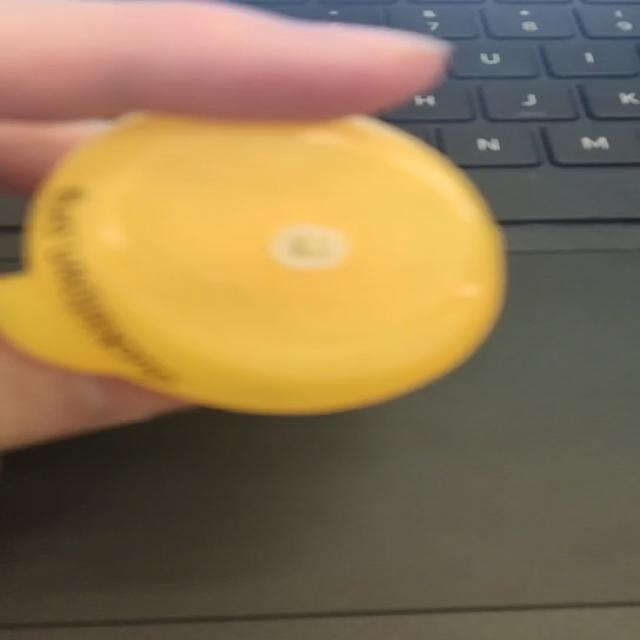rubber-duck: (0, 113, 503, 411)
